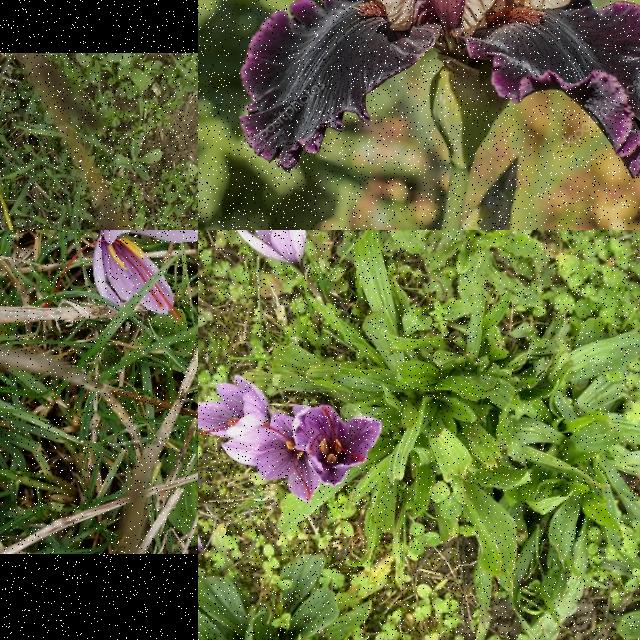flower: (93, 230, 198, 321), (293, 405, 382, 487), (235, 230, 306, 267)
overlap: (198, 373, 321, 502)
